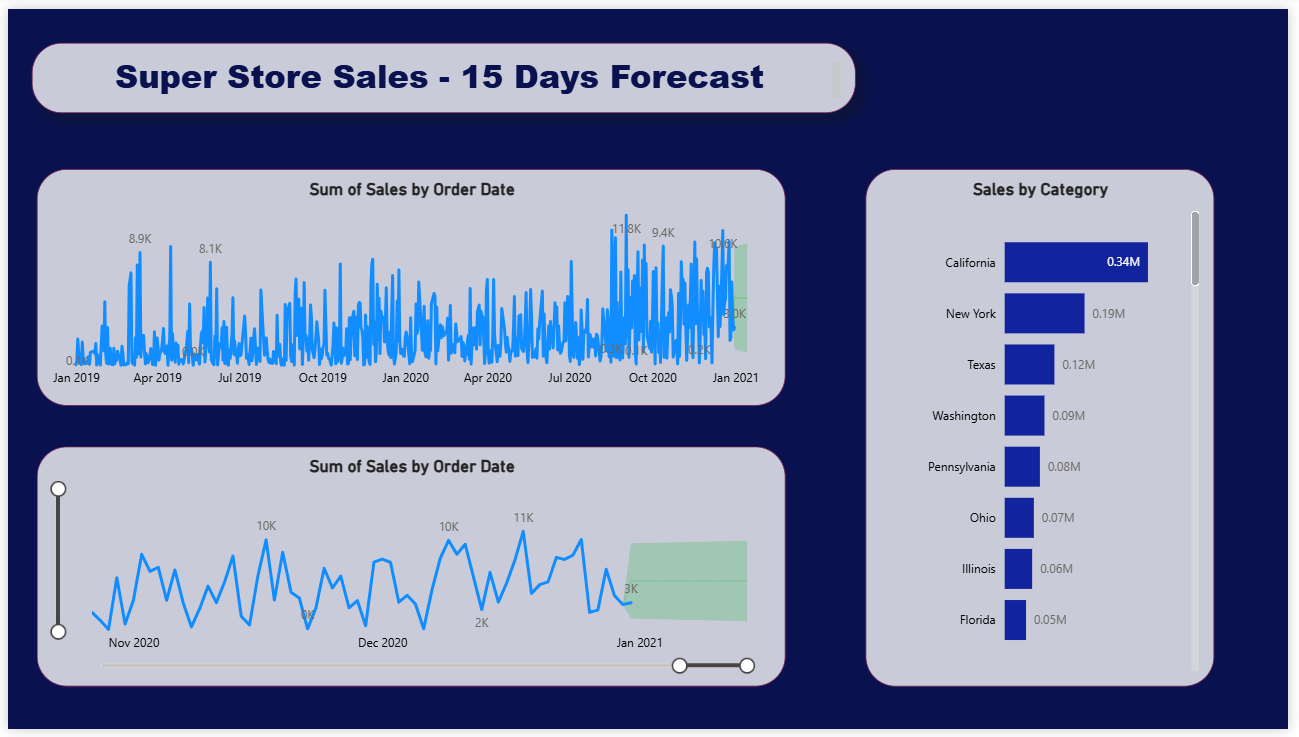

The dashboard page shown, as its layout file describes it:
{"tool":"powerbi","page":{"name":"Page 2","canvas":[1280,720],"ordinal":1},"visuals":[{"type":"lineChart","fields":{"Y":["Sum(Sheet1.Sales)"],"Category":["Sheet1.Order Date"]},"box":[29,160.5,749.2,236.5],"z":0},{"type":"lineChart","fields":{"Y":["Sum(Sheet1.Sales)"],"Category":["Sheet1.Order Date"]},"box":[29,437.9,749.2,240.1],"z":1000},{"type":"clusteredBarChart","title":" Sales by Category","fields":{"Category":["Sheet1.State"],"Y":["Sum(Sheet1.Sales)"]},"box":[857.8,160.5,348.7,517.6],"z":2000},{"type":"textbox","box":[23.8,33.8,823.8,70],"z":4000}]}

Visuals, with their boxes in screenshot pixels (x1, y1, x2, y2), scaled from the page's 1280x720 canvas onto the 1299x737 screenshot:
lineChart - Sum(Sheet1.Sales) x Sheet1.Order Date: {"left": 29, "top": 164, "right": 790, "bottom": 406}
lineChart - Sum(Sheet1.Sales) x Sheet1.Order Date: {"left": 29, "top": 448, "right": 790, "bottom": 694}
" Sales by Category" clusteredBarChart: {"left": 871, "top": 164, "right": 1224, "bottom": 694}
textbox: {"left": 24, "top": 35, "right": 860, "bottom": 106}
